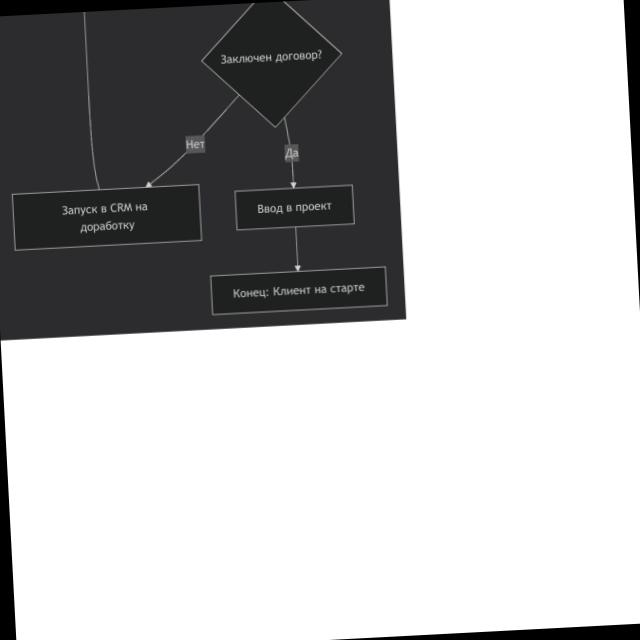arrow: (141, 94, 243, 188), (282, 116, 300, 190), (290, 227, 304, 271)
rectangle: (12, 185, 202, 250), (212, 267, 387, 315), (234, 184, 355, 230)
text_region: (180, 133, 214, 154), (278, 144, 310, 162)
